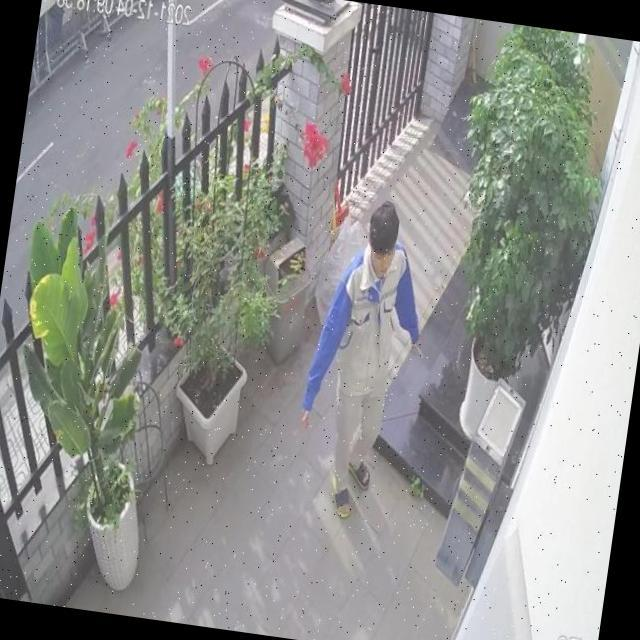person: (289, 191, 438, 524)
